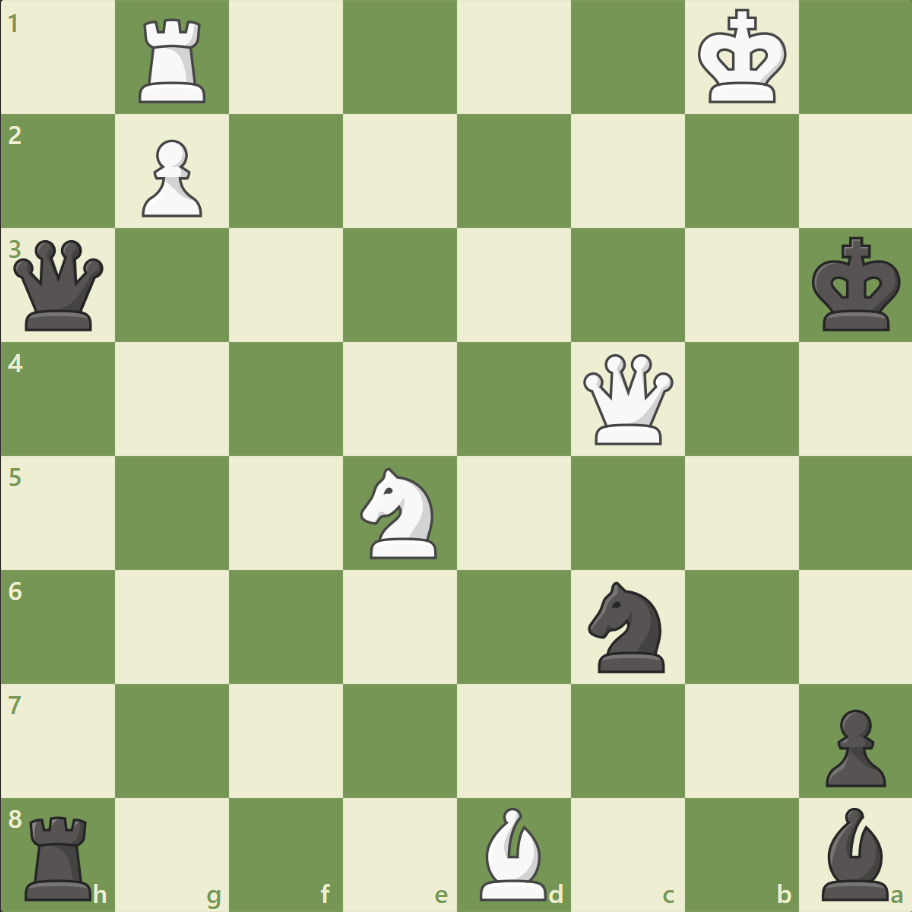B: (479, 806, 557, 910)
K: (696, 13, 794, 114)
N: (360, 467, 449, 568)
P: (142, 135, 214, 220)
Q: (581, 353, 682, 455)
R: (138, 13, 216, 113)
b: (819, 806, 897, 910)
k: (809, 240, 907, 341)
n: (587, 581, 676, 682)
p: (823, 703, 895, 787)
q: (14, 240, 115, 341)
r: (24, 808, 103, 908)
